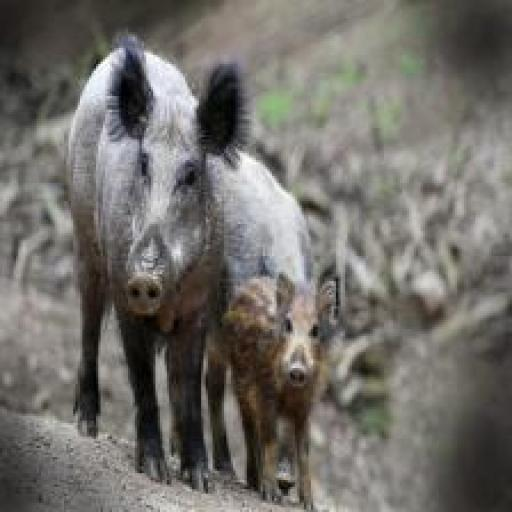Pig: (71, 25, 250, 512), (208, 270, 338, 511)
